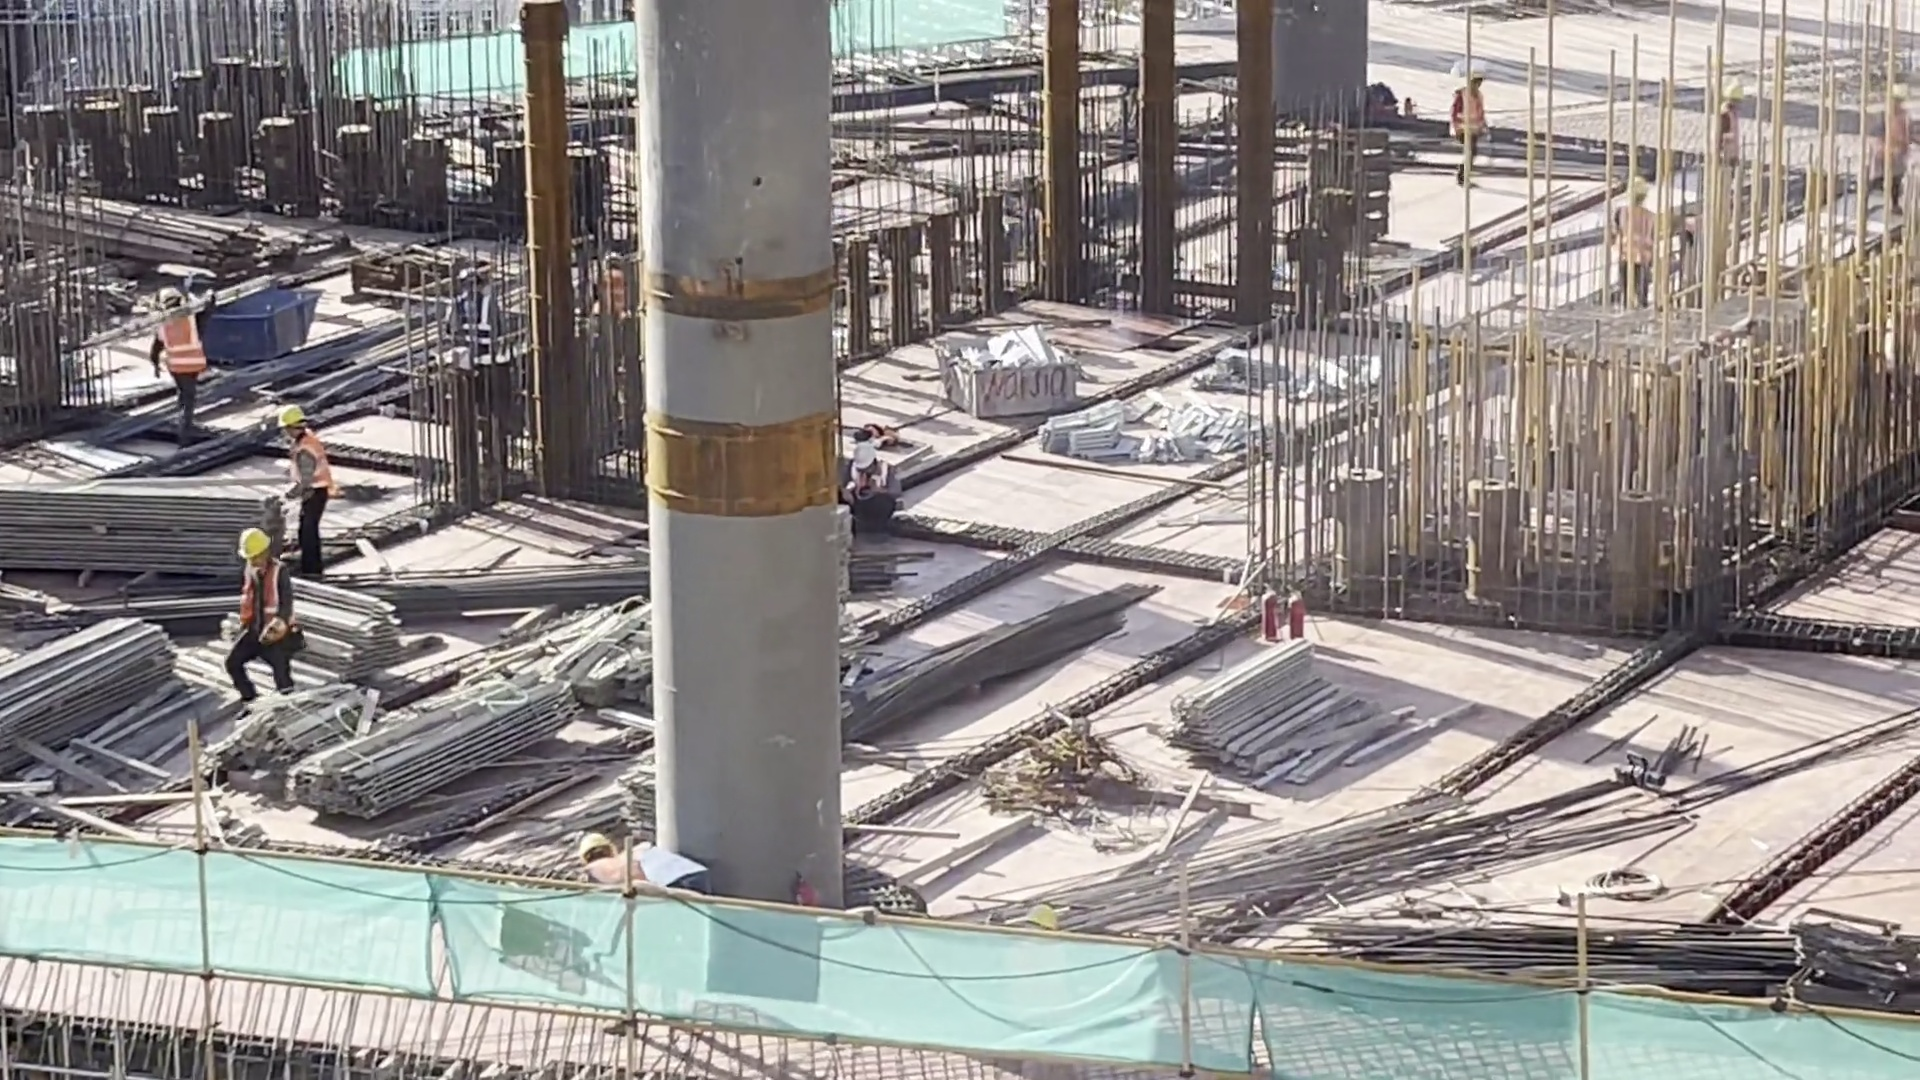helmet: (844, 428, 889, 478), (266, 400, 301, 432), (1625, 167, 1651, 200), (237, 535, 267, 554), (151, 280, 174, 302), (1896, 87, 1918, 111), (1730, 74, 1744, 98), (1469, 69, 1486, 82)
hopper: (926, 316, 1097, 423), (192, 286, 319, 364)
person: (214, 515, 304, 728), (256, 387, 347, 569), (440, 256, 519, 439), (138, 271, 207, 443), (1447, 50, 1501, 194), (1612, 175, 1664, 309), (1707, 63, 1756, 194), (1877, 78, 1920, 220), (845, 426, 893, 517)
vest: (273, 437, 332, 498), (1608, 198, 1658, 264), (152, 311, 199, 376), (454, 298, 496, 361), (236, 565, 281, 624), (1707, 101, 1745, 158), (1448, 93, 1489, 143), (1888, 122, 1907, 168)
wood: (1, 452, 301, 604), (301, 686, 571, 837), (1169, 627, 1380, 798), (1, 614, 191, 776)
